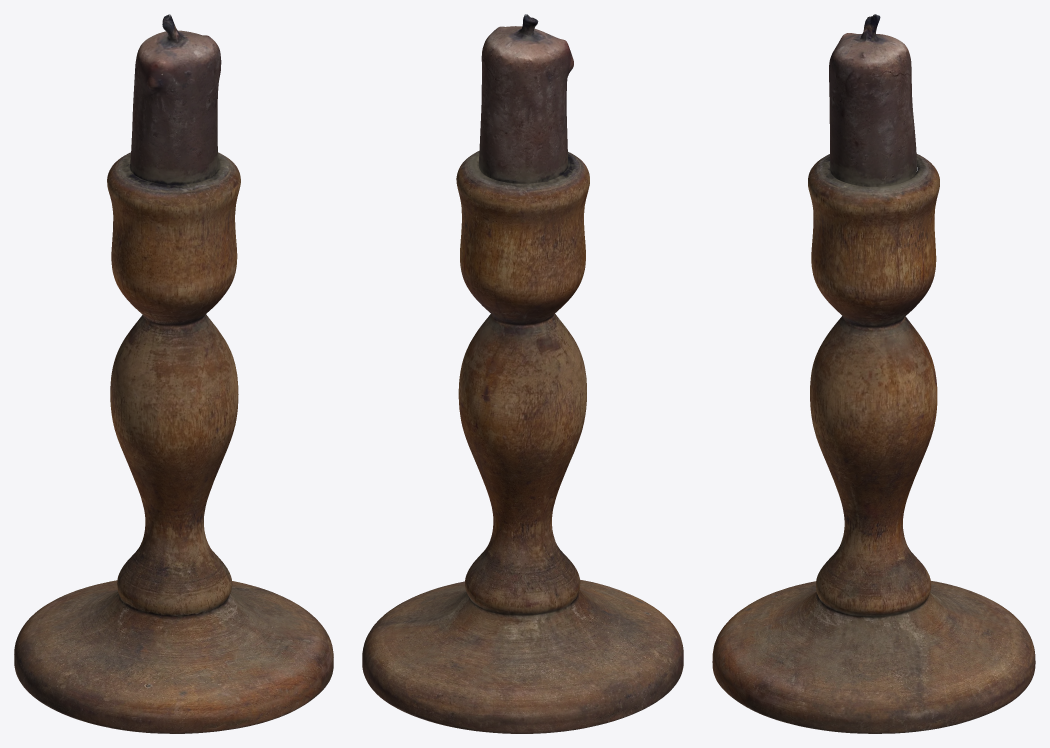
Rendered from wooden_candlestick.glb.
The picture shows the model from 3 angles, left to right: view 1: azimuth 30°, elevation 25°; view 2: azimuth 150°, elevation 25°; view 3: azimuth 270°, elevation 25°; orthographic projection.
Visible parts, largest first — view 1: wooden_candlestick; view 2: wooden_candlestick; view 3: wooden_candlestick.
Boxes of the visible parts, left/top/right/bottom form: wooden_candlestick: left=14, top=14, right=333, bottom=733; wooden_candlestick: left=362, top=14, right=683, bottom=733; wooden_candlestick: left=712, top=14, right=1035, bottom=733.
Size of the model in its own units: 1.97 by 4.45 by 2.
1 material, 1 textured.
